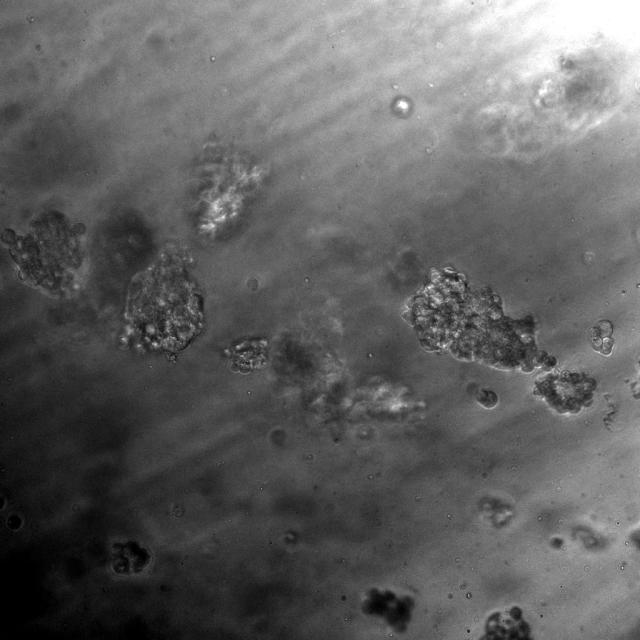organoid: (268, 309, 424, 423), (402, 267, 558, 372), (49, 208, 158, 335), (120, 249, 204, 360), (193, 135, 268, 238), (0, 209, 85, 296), (534, 369, 596, 413), (361, 587, 414, 632), (481, 606, 532, 639), (224, 338, 268, 374), (110, 540, 151, 575), (589, 319, 614, 355), (476, 387, 498, 408)
